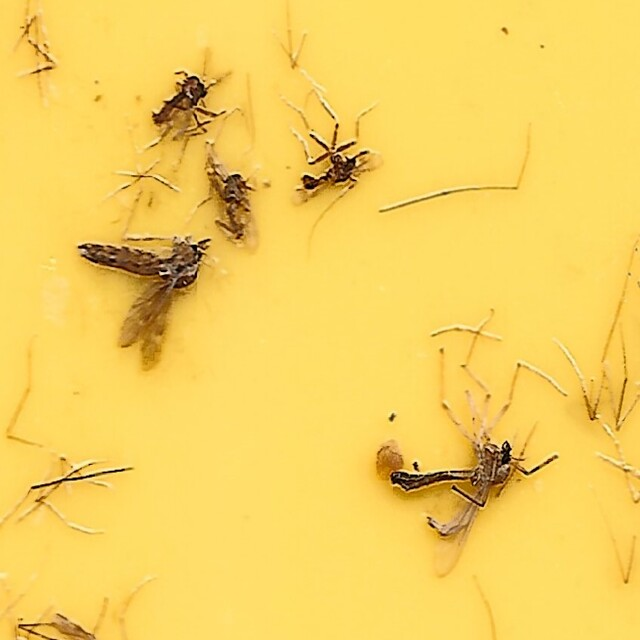Nematocera: (380, 355, 564, 542), (76, 230, 211, 370), (293, 98, 379, 206), (204, 170, 255, 251)
